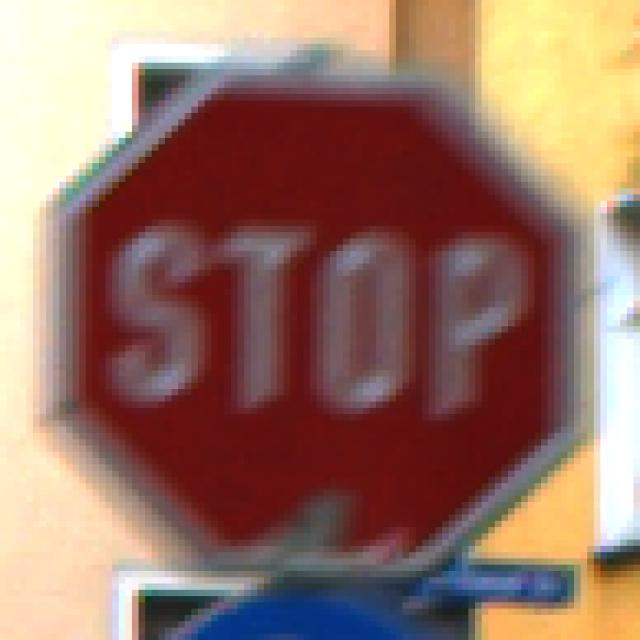STOP: (61, 58, 589, 585)
